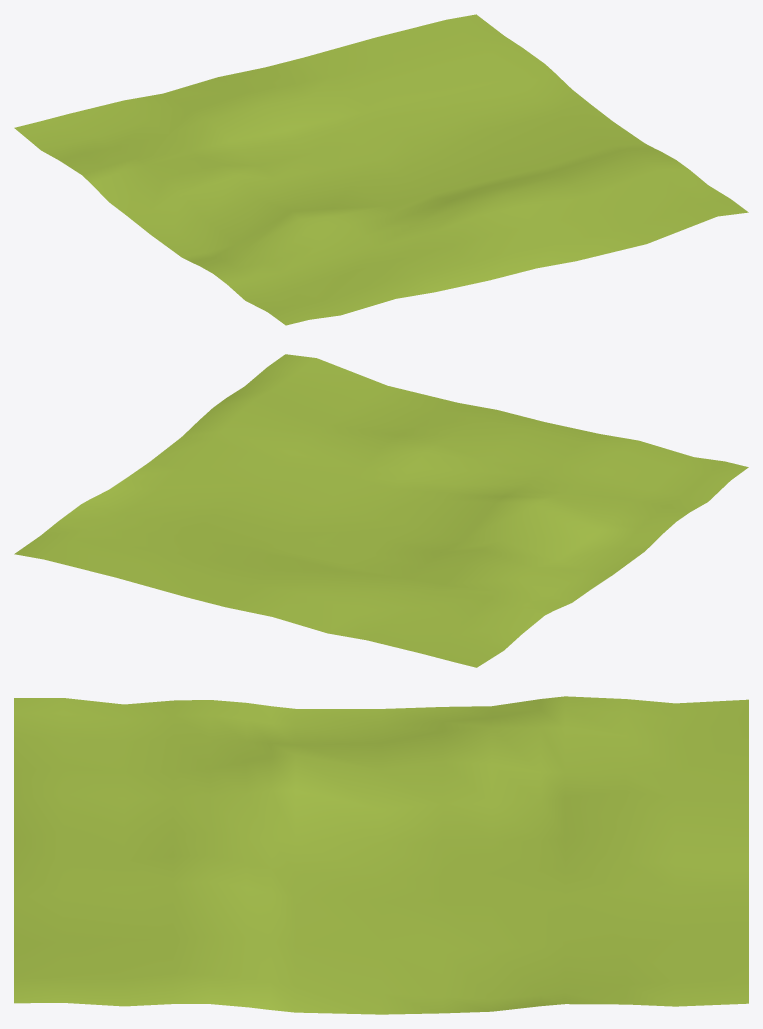
File: collider_chemin_courve3.fbx
3 views of the same model, one above another, from view 1: azimuth 30°, elevation 25°; view 2: azimuth 150°, elevation 25°; view 3: azimuth 270°, elevation 25° (orthographic). The views are drawn at different scales.
Visible parts, largest first — view 1: collider_chemin_courve3; view 2: collider_chemin_courve3; view 3: collider_chemin_courve3.
Part boxes in pixels (x1,y1,x2,y2): collider_chemin_courve3: (14,14,748,325); collider_chemin_courve3: (14,354,748,667); collider_chemin_courve3: (14,696,748,1014).
Size of the model in its own units: 708 by 33.77 by 720.
